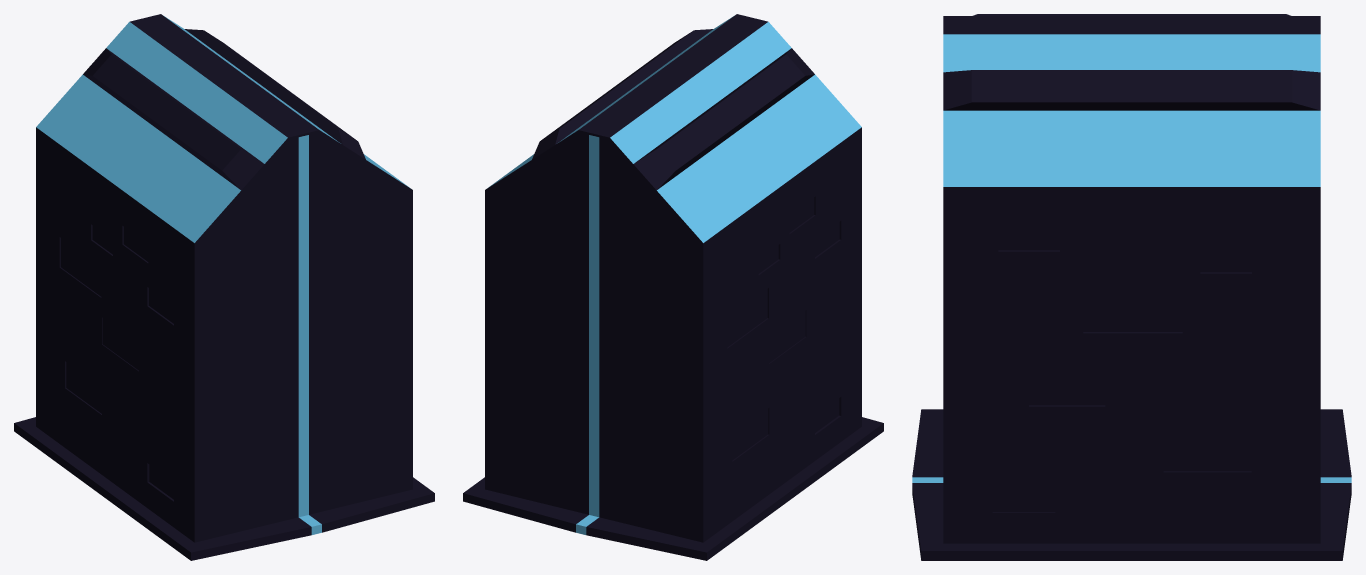
The model's file is House2.fbx.
The picture shows the model from 3 angles, left to right: view 1: azimuth 30°, elevation 25°; view 2: azimuth 150°, elevation 25°; view 3: azimuth 270°, elevation 25°; orthographic projection. The views are drawn at different scales.
Visible parts, largest first — view 1: House; view 2: House; view 3: House.
Boxes of the visible parts, bbox=[...] form: House: bbox=[14, 14, 434, 560]; House: bbox=[463, 14, 883, 560]; House: bbox=[912, 14, 1351, 560].
Size of the model in its own units: 399 by 612 by 524.
